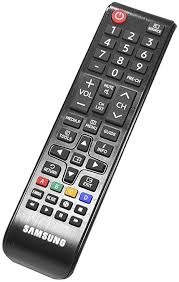remote control: (19, 1, 176, 276)
